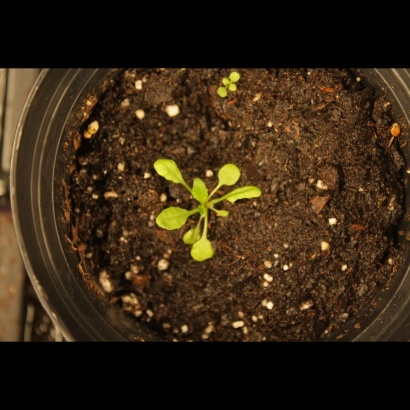leaf: (151, 153, 188, 191), (151, 201, 189, 231), (225, 183, 265, 206), (189, 238, 217, 269), (187, 174, 210, 210), (218, 161, 242, 188), (206, 87, 229, 110), (228, 61, 251, 84), (180, 224, 203, 247), (214, 207, 237, 230)
